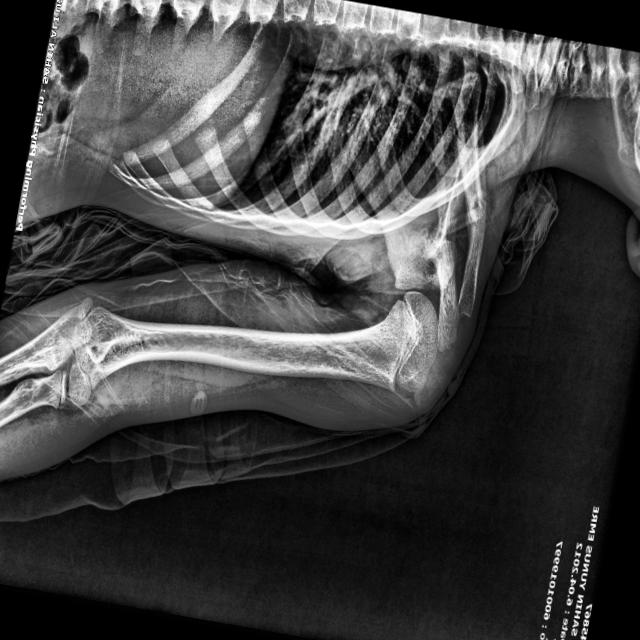Fracture: (454, 176, 499, 242)
